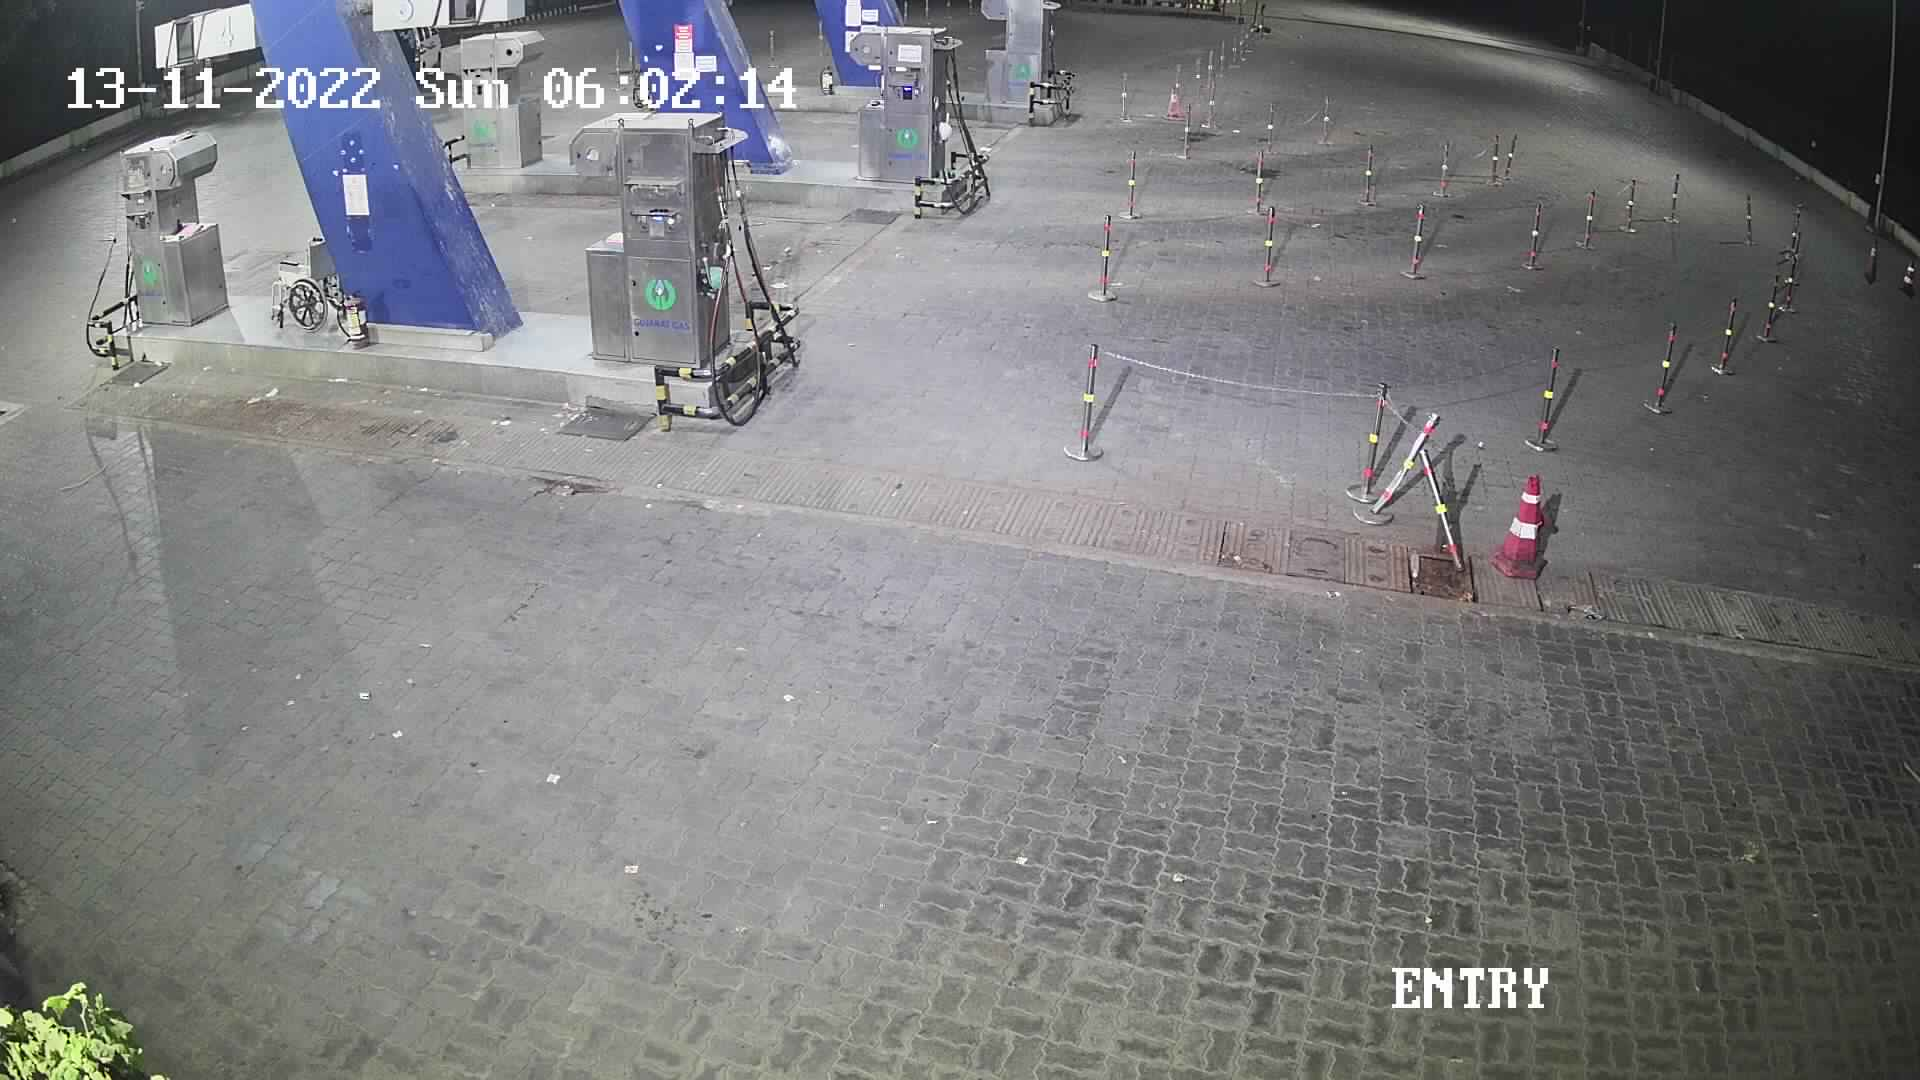Car: (378, 12, 462, 95)
